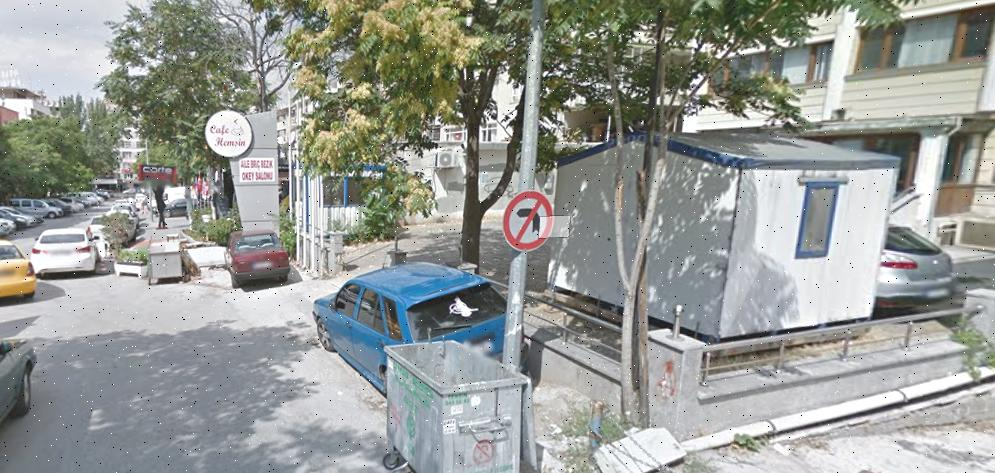leftturnsareforbidden: (505, 184, 559, 246)
